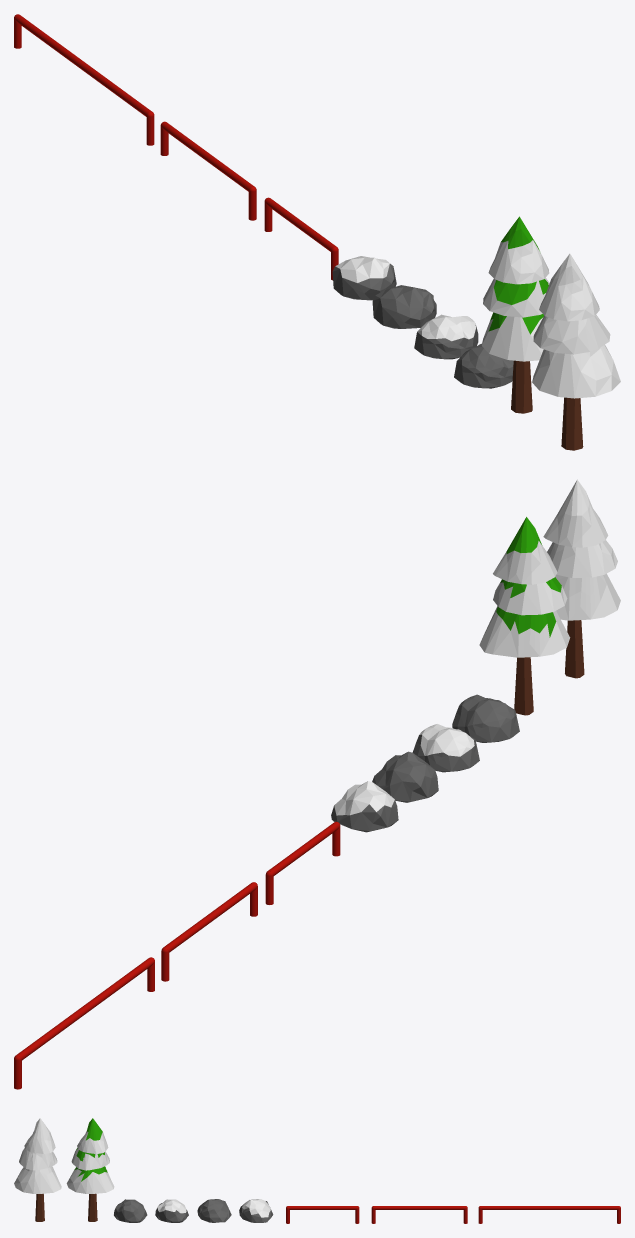
The model's file is props.glb.
The picture shows the model from 3 angles, top to bottom: view 1: azimuth 30°, elevation 25°; view 2: azimuth 150°, elevation 25°; view 3: azimuth 270°, elevation 25°; orthographic projection. The views are drawn at different scales.
Parts seen in each view (by area): view 1: Cube.001, Cube.003, Icosphere.002, Icosphere.001, Icosphere.003, Icosphere, Cylinder.006, Cylinder.004, Cylinder.002; view 2: Cube.003, Cube.001, Icosphere.003, Icosphere, Icosphere.001, Icosphere.002, Cylinder.006, Cylinder.004, Cylinder.002; view 3: Cube.001, Cube.003, Cylinder.006, Icosphere.003, Icosphere.002, Icosphere.001, Icosphere, Cylinder.004, Cylinder.002.
Boxes of the visible parts, <box> form: Cube.001: <box>532,253,620,450</box>; Cube.003: <box>481,216,549,413</box>; Icosphere.002: <box>372,285,436,328</box>; Icosphere.001: <box>414,314,478,359</box>; Icosphere.003: <box>332,256,396,300</box>; Icosphere: <box>454,343,513,388</box>; Cylinder.006: <box>14,14,154,145</box>; Cylinder.004: <box>160,121,256,220</box>; Cylinder.002: <box>264,197,338,280</box>; Cube.003: <box>479,517,570,715</box>; Cube.001: <box>543,479,620,678</box>; Icosphere.003: <box>331,781,398,832</box>; Icosphere: <box>452,694,519,742</box>; Icosphere.001: <box>412,724,479,772</box>; Icosphere.002: <box>372,751,438,802</box>; Cylinder.006: <box>14,957,154,1089</box>; Cylinder.004: <box>161,882,257,981</box>; Cylinder.002: <box>265,821,340,904</box>; Cube.001: <box>14,1118,61,1221</box>; Cube.003: <box>66,1118,114,1221</box>; Cylinder.006: <box>478,1206,620,1223</box>; Icosphere.003: <box>239,1199,273,1222</box>; Icosphere.002: <box>197,1199,231,1222</box>; Icosphere.001: <box>155,1199,188,1222</box>; Icosphere: <box>114,1199,147,1222</box>; Cylinder.004: <box>371,1206,467,1223</box>; Cylinder.002: <box>286,1206,359,1223</box>.
Bounding box in the file's own units: 9.78 × 24.34 × 128.
